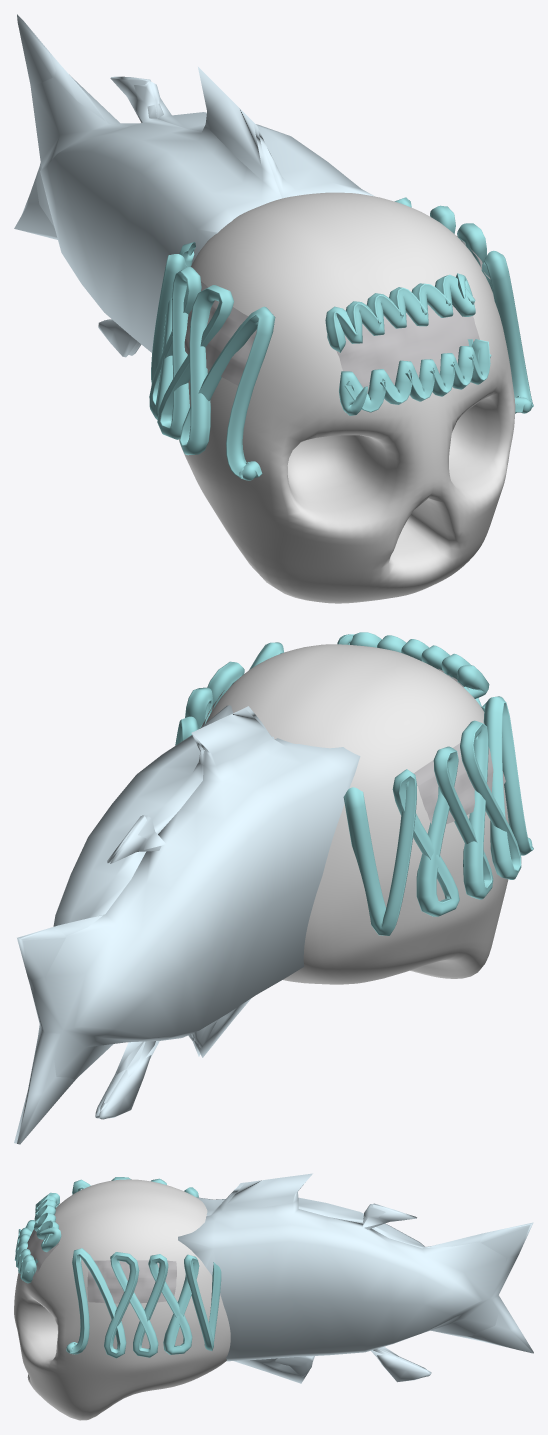
Rendered from Pez2.fbx.
The picture shows the model from 3 angles, top to bottom: view 1: azimuth 30°, elevation 25°; view 2: azimuth 150°, elevation 25°; view 3: azimuth 270°, elevation 25°; orthographic projection. The views are drawn at different scales.
Visible parts, largest first — view 1: Cube.001, Cube, BezierCurve.002, Plane, BezierCurve, BezierCurve.001; view 2: Cube, Cube.001, BezierCurve.002, BezierCurve.001, Plane; view 3: Cube, Cube.001, BezierCurve.002, Plane, BezierCurve.001, BezierCurve.
Part boxes in pixels (x1,y1,x2,y2): Cube.001: (179, 192, 515, 603); Cube: (14, 14, 374, 357); BezierCurve.002: (149, 197, 533, 480); Plane: (184, 236, 490, 393); BezierCurve: (338, 339, 491, 415); BezierCurve.001: (325, 273, 475, 352); Cube: (14, 705, 360, 1144); Cube.001: (206, 644, 508, 984); BezierCurve.002: (175, 642, 533, 935); BezierCurve.001: (337, 632, 489, 698); Plane: (201, 669, 505, 824); Cube: (178, 1173, 533, 1383); Cube.001: (14, 1179, 230, 1420); BezierCurve.002: (66, 1177, 221, 1358); Plane: (27, 1229, 176, 1303); BezierCurve.001: (34, 1192, 61, 1252); BezierCurve: (14, 1220, 38, 1283).
Size of the model in its own units: 655 by 706 by 1439.
